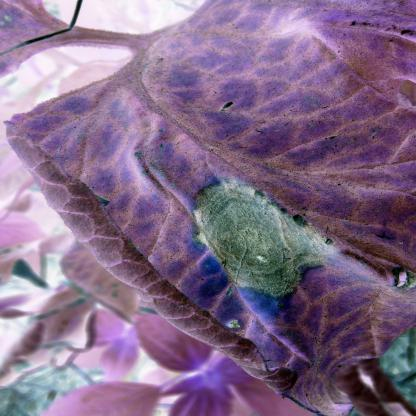Tomato Early blight leaf: (197, 22, 416, 164)
